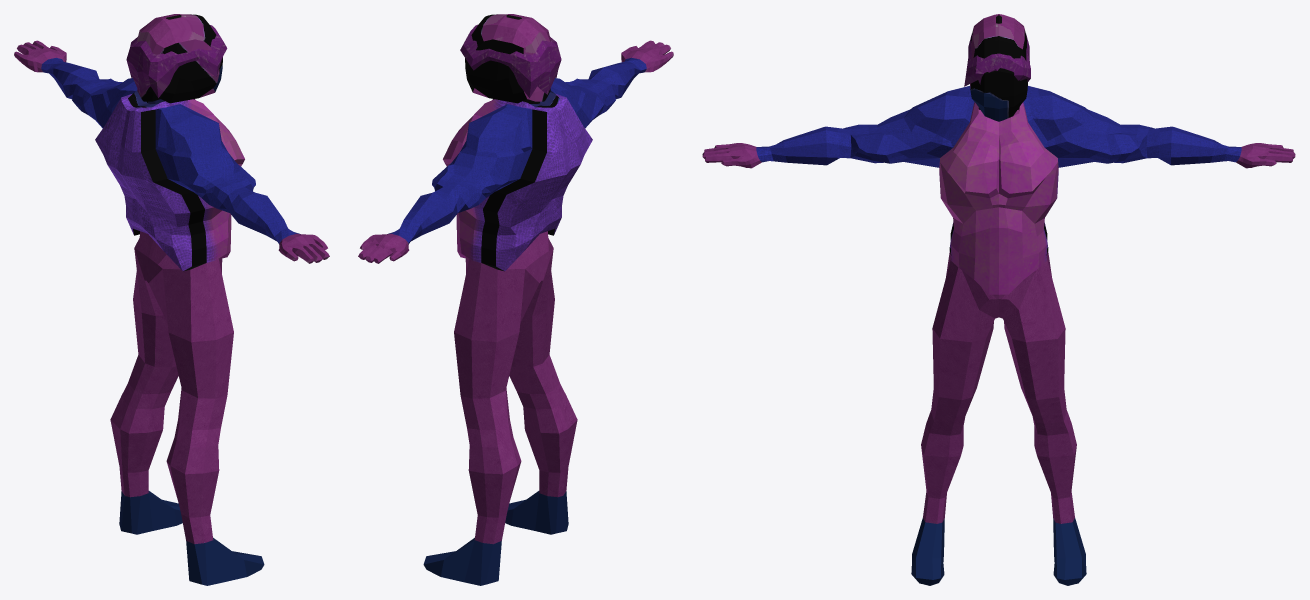
The model's file is newWardenv3.fbx.
The picture shows the model from 3 angles, left to right: view 1: azimuth 30°, elevation 25°; view 2: azimuth 150°, elevation 25°; view 3: azimuth 270°, elevation 25°; orthographic projection.
Visible parts, largest first — view 1: Cube, Helmet, Hair; view 2: Cube, Helmet, Hair; view 3: Cube, Helmet, Hair.
Boxes of the visible parts, x1=… form: Cube: x1=14, y1=15, x2=329, y2=585; Helmet: x1=137, y1=14, x2=222, y2=103; Hair: x1=126, y1=25, x2=227, y2=97; Cube: x1=358, y1=15, x2=673, y2=585; Helmet: x1=465, y1=14, x2=550, y2=103; Hair: x1=460, y1=24, x2=561, y2=97; Cube: x1=702, y1=15, x2=1295, y2=585; Helmet: x1=970, y1=14, x2=1027, y2=121; Hair: x1=964, y1=34, x2=1030, y2=86.
Bounding box in the file's own units: 141 × 630 × 626.
